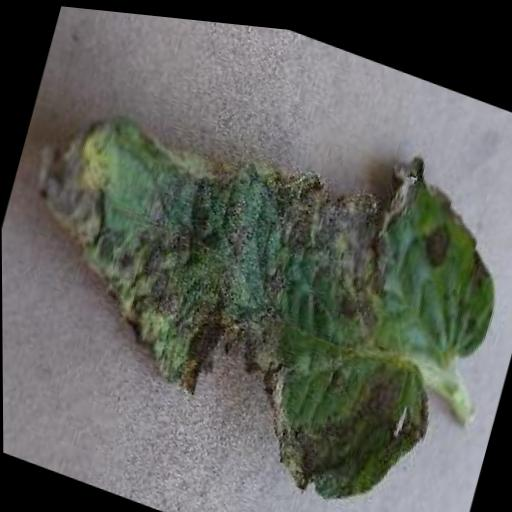Early Blight: (0, 24, 512, 512)
